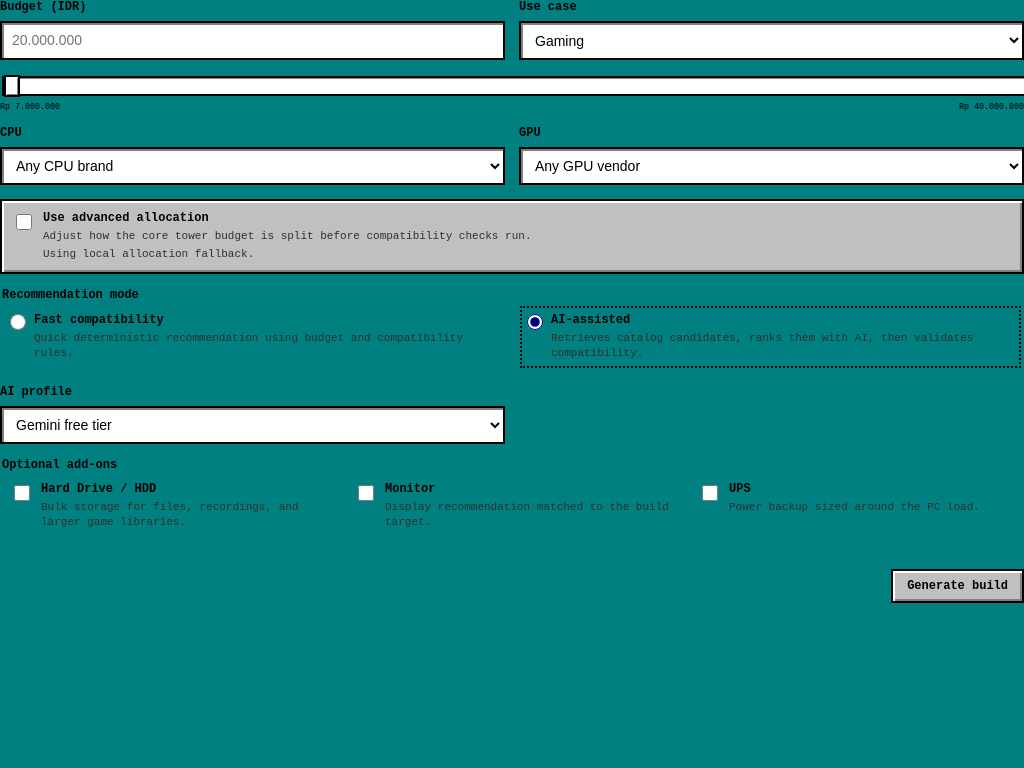
Test: build wizard › shows only the optional add-ons selected for the current request
Step 1. Type "20000000" into the field labelled "Budget (IDR)" → [252, 40], box left=0, top=21, right=505, bottom=60
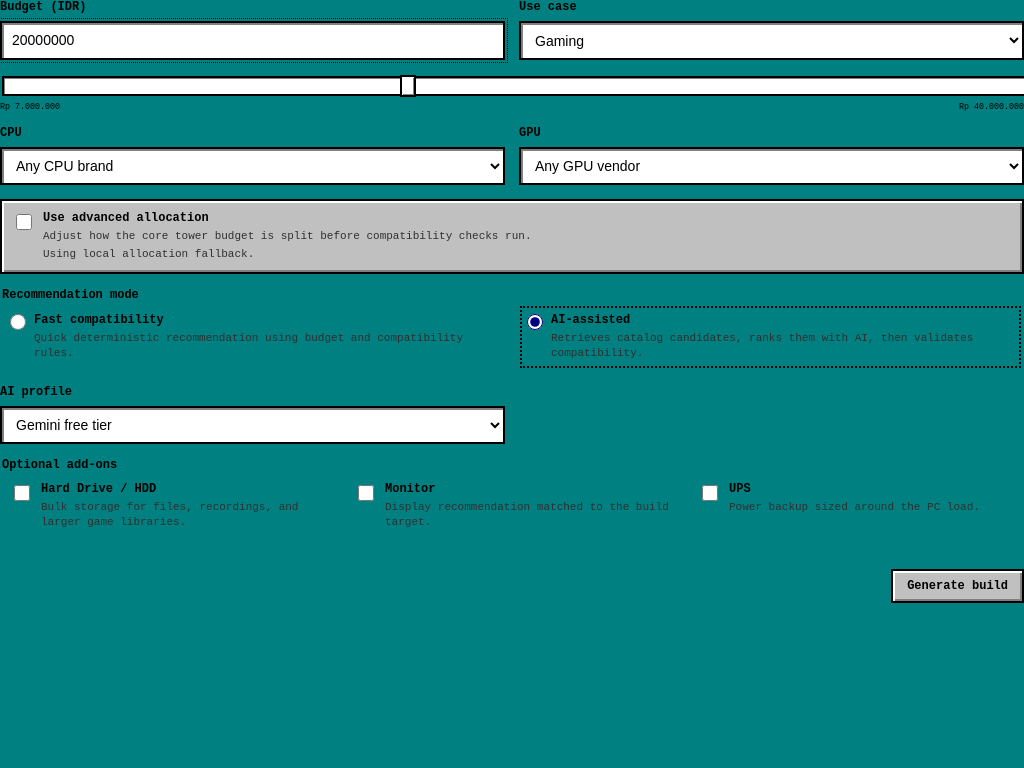
Step 2. Click the radio button labelled "Fast compatibility" → [18, 322], box left=10, top=314, right=26, bottom=330
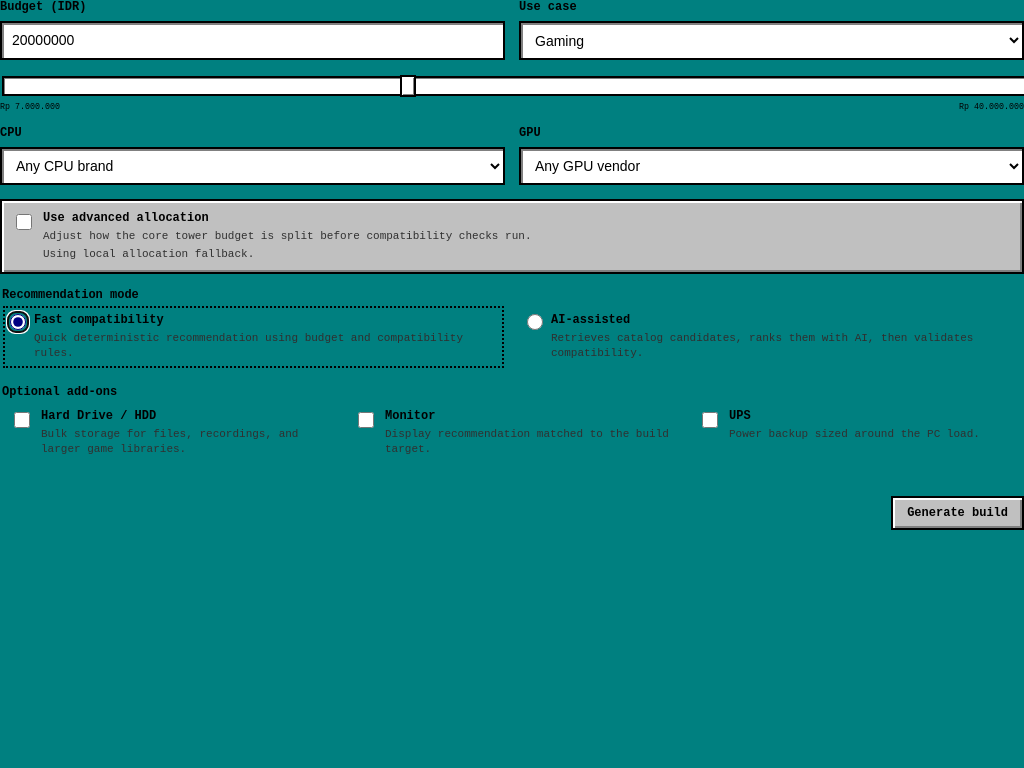
Step 3. Click the checkbox labelled "Hard Drive / HDD" → [22, 420], box left=14, top=412, right=30, bottom=428
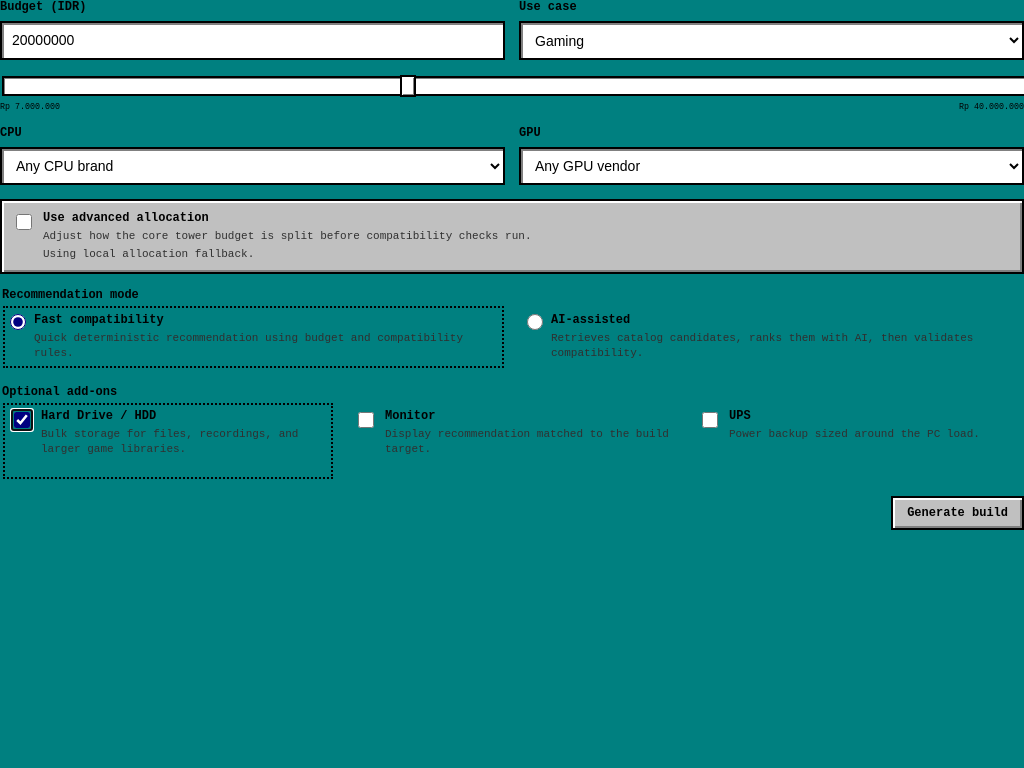
Step 4. Click the button "Generate build" → [958, 513], box left=891, top=496, right=1023, bottom=530
(page scrolled)
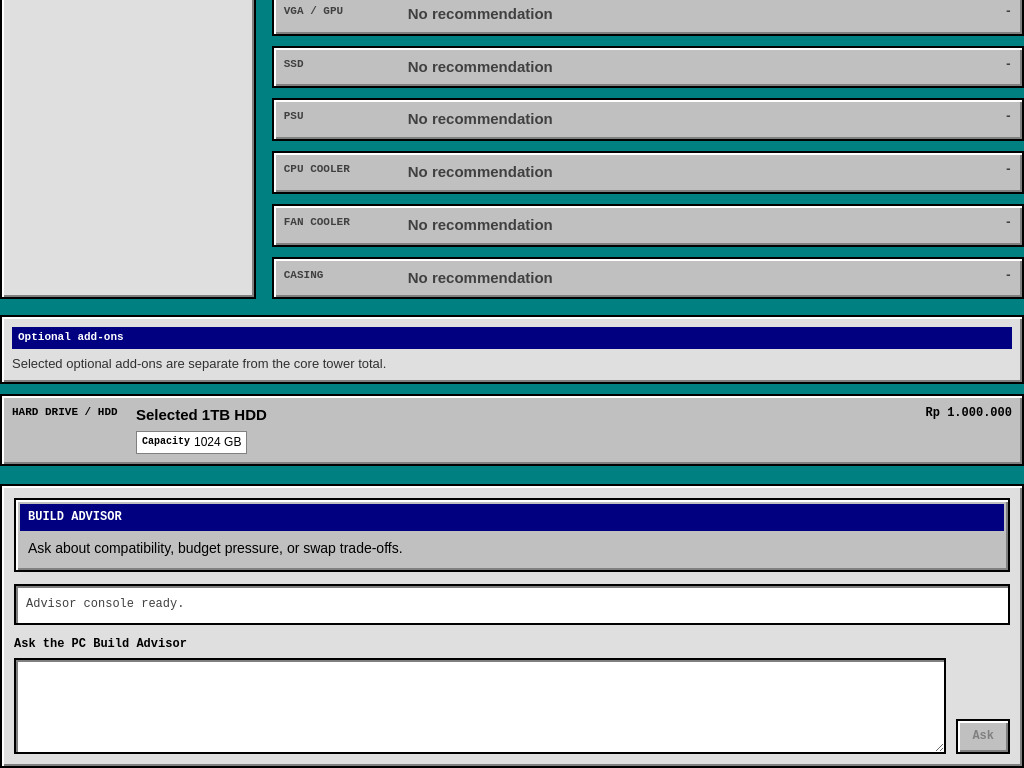
Expected: the heading "Selected 1TB HDD" is shown, left=136, top=406, right=267, bottom=423
